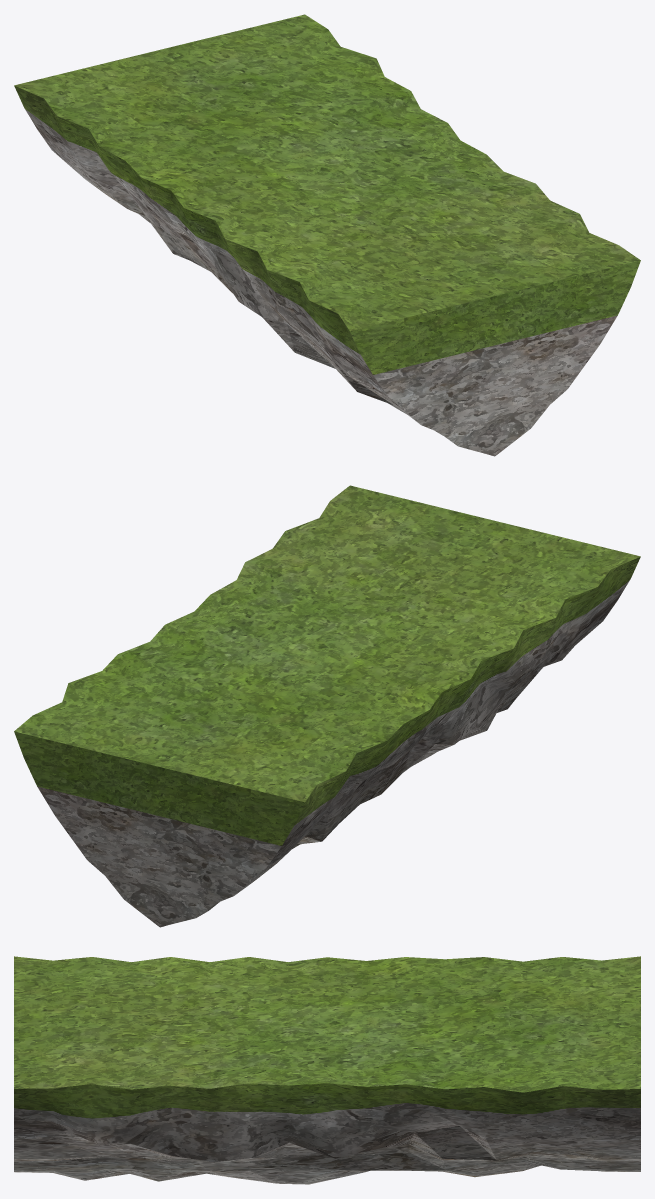
The model's file is Road_Straight.FBX.
3 views of the same model, one above another, from view 1: azimuth 30°, elevation 25°; view 2: azimuth 150°, elevation 25°; view 3: azimuth 270°, elevation 25° (orthographic). The views are drawn at different scales.
Visible parts, largest first — view 1: Straight_Way_Final003; view 2: Straight_Way_Final003; view 3: Straight_Way_Final003.
Part boxes in pixels (x1=…): Straight_Way_Final003: x1=14, y1=14, x2=640, y2=456; Straight_Way_Final003: x1=14, y1=485, x2=640, y2=927; Straight_Way_Final003: x1=14, y1=956, x2=640, y2=1184.
Size of the model in its own units: 412 by 230 by 800.
